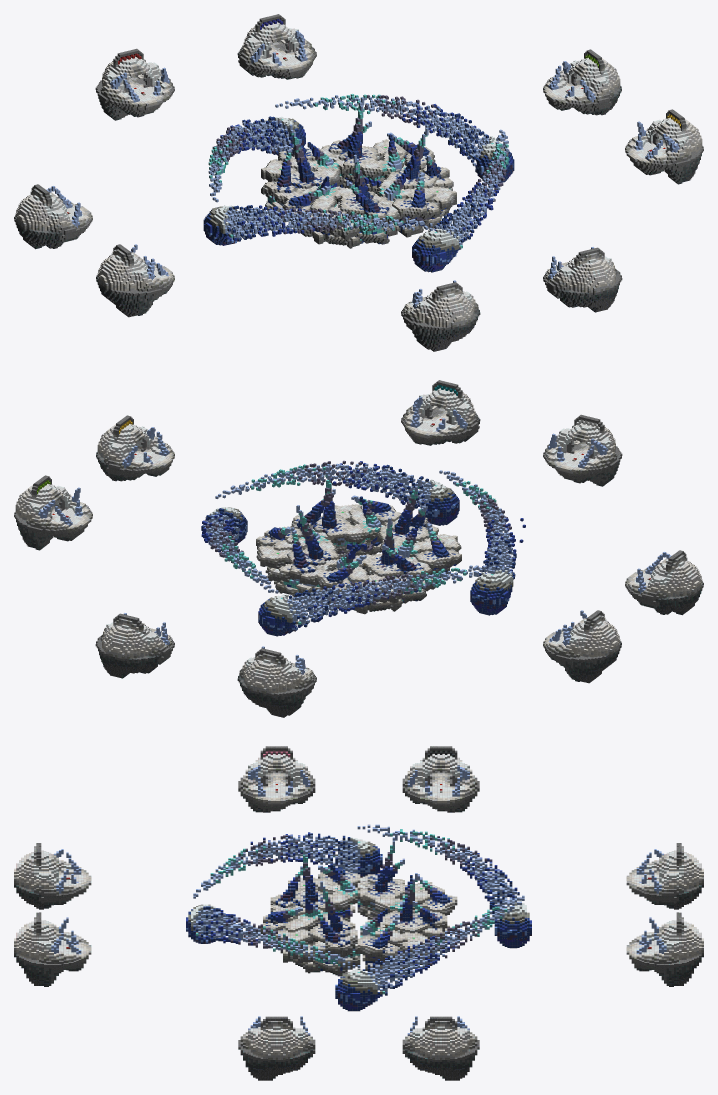
Rendered from all.glb.
3 views of the same model, one above another, from view 1: azimuth 30°, elevation 25°; view 2: azimuth 150°, elevation 25°; view 3: azimuth 270°, elevation 25° (orthographic).
Parts seen in each view (by area): view 1: blockentity:minecraft:bed; view 2: blockentity:minecraft:bed; view 3: blockentity:minecraft:bed.
Part boxes in pixels (box(x1,y1,x2,y2)): blockentity:minecraft:bed: box(14, 14, 703, 351); blockentity:minecraft:bed: box(14, 380, 703, 717); blockentity:minecraft:bed: box(14, 746, 703, 1080).
Size of the model in its own units: 277 by 37.99 by 277.
41 materials, 41 textured.
